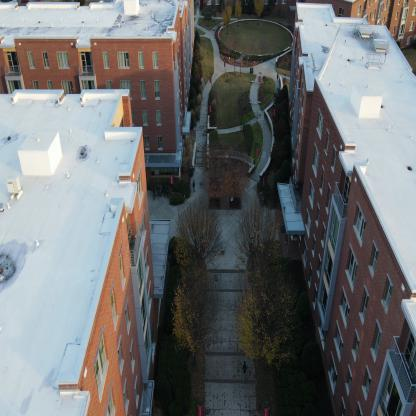Wolf Ridge: (0, 0, 197, 415), (278, 0, 415, 415)
